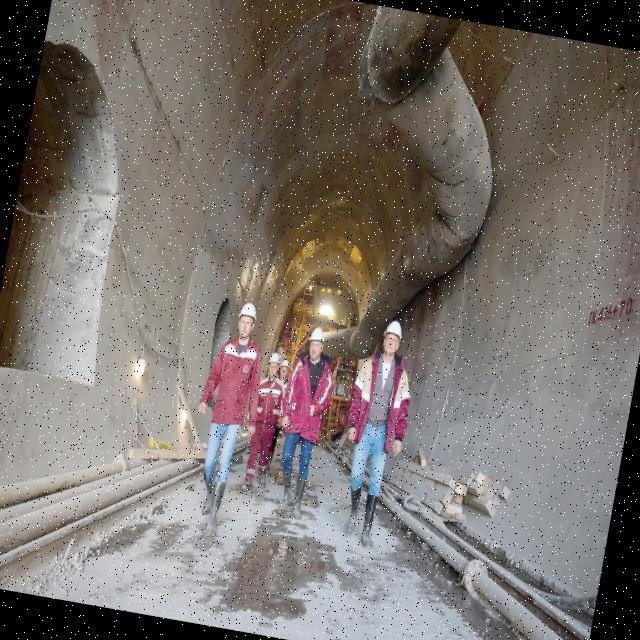Helmet: (236, 301, 261, 326), (382, 321, 406, 344), (308, 327, 327, 349), (269, 354, 284, 368), (280, 359, 292, 371)
Jacket: (212, 330, 258, 429), (256, 370, 287, 429)
NoJacket: (354, 346, 410, 448), (286, 349, 333, 440)
